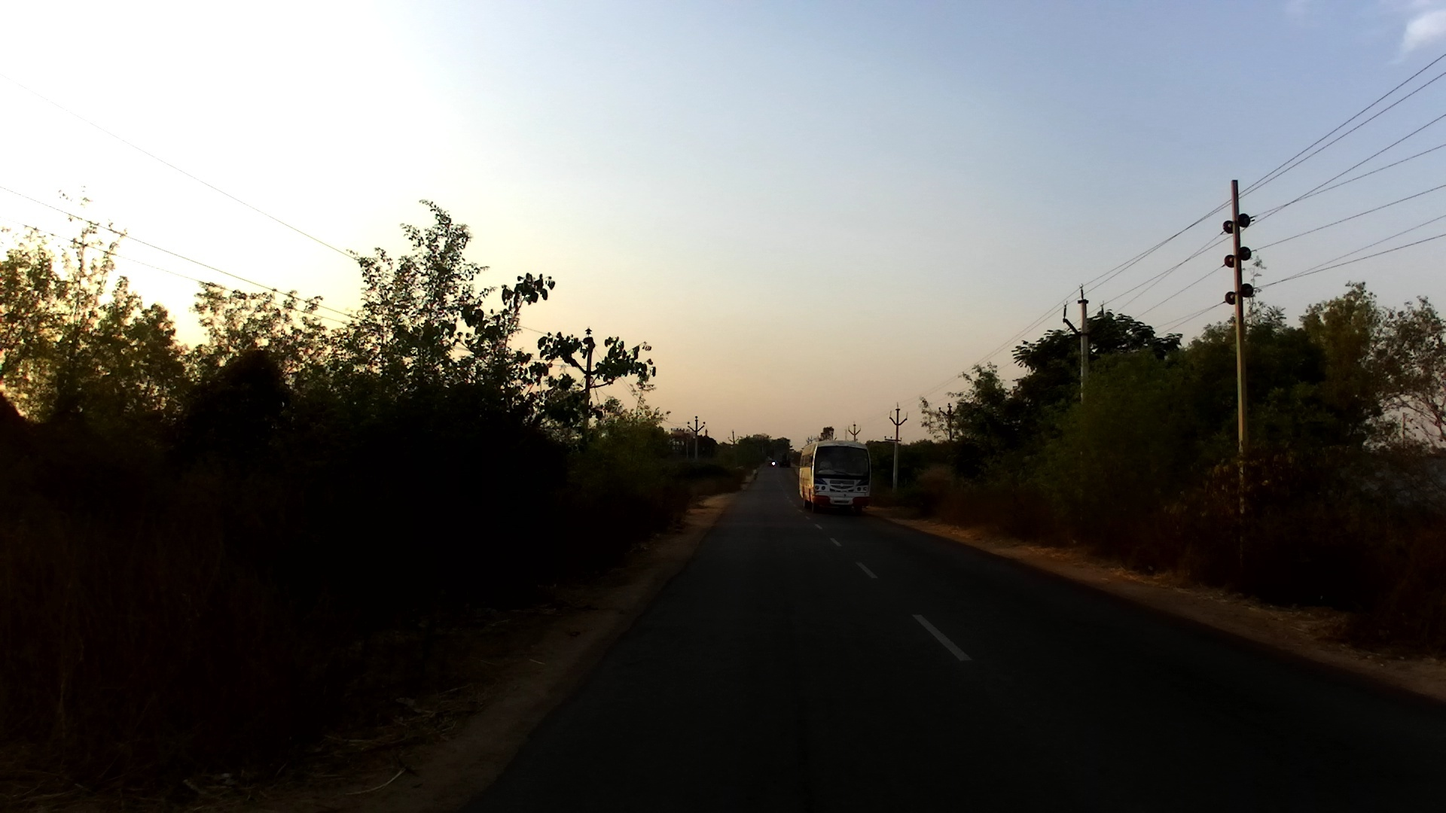bus: (796, 438, 875, 516)
vehicle fallback: (767, 459, 779, 467)
